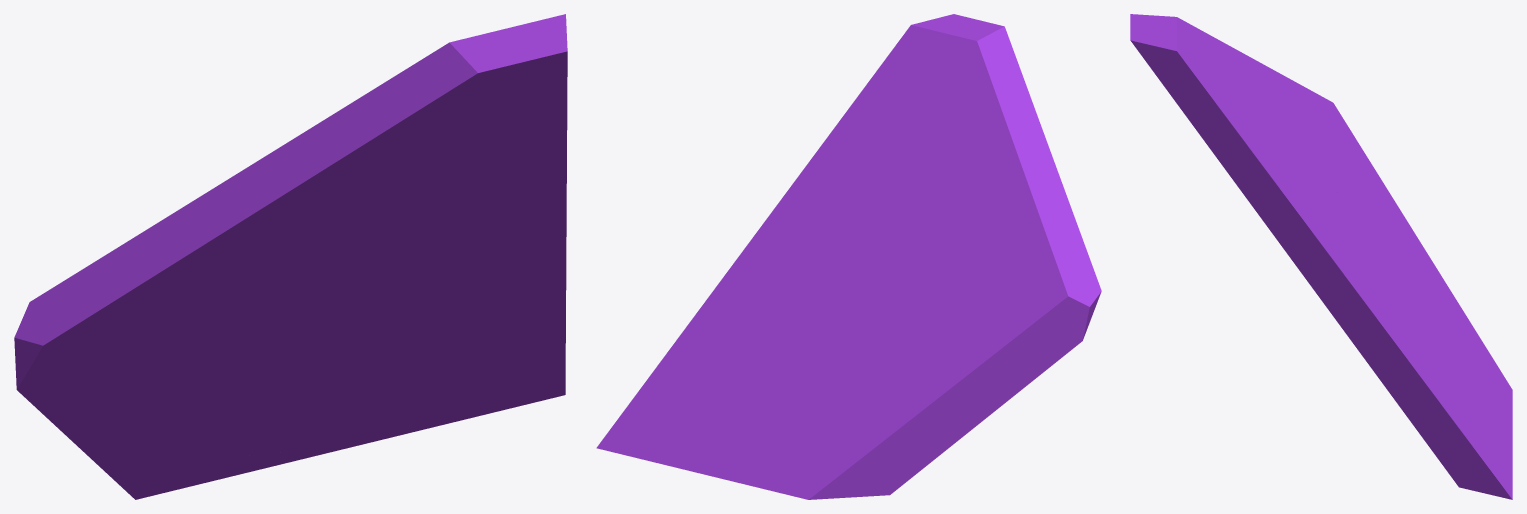
File: Window_126_2_chunks.fbx
3 renders of one model, left to right at view 1: azimuth 30°, elevation 25°; view 2: azimuth 150°, elevation 25°; view 3: azimuth 270°, elevation 25°, orthographic. The views are drawn at different scales.
Visible parts, largest first — view 1: Window_126_2_0, Window_126_2_4, Window_126_2_5, Window_126_2_6, Window_126_2_8, Window_126_2_2, Window_126_2_11, Window_126_2_7, Window_126_2_12, Window_126_2_10, Window_126_2_9; view 2: Window_126_2_4, Window_126_2_0, Window_126_2_1, Window_126_2_5, Window_126_2_6, Window_126_2_12, Window_126_2_8, Window_126_2_3, Window_126_2_2, Window_126_2_9, Window_126_2_10; view 3: Window_126_2_4, Window_126_2_8, Window_126_2_12, Window_126_2_5, Window_126_2_1, Window_126_2_6, Window_126_2_3, Window_126_2_0, Window_126_2_2, Window_126_2_9.
Part boxes in pixels (x1,y1,x2,y2): Window_126_2_0: (14,243,322,499); Window_126_2_4: (356,172,566,365); Window_126_2_5: (256,14,567,205); Window_126_2_6: (126,159,389,289); Window_126_2_8: (387,91,567,258); Window_126_2_2: (211,270,364,456); Window_126_2_11: (208,353,458,460); Window_126_2_7: (246,149,469,220); Window_126_2_12: (398,341,565,400); Window_126_2_10: (279,389,565,464); Window_126_2_9: (191,451,288,486); Window_126_2_4: (653,144,900,372); Window_126_2_0: (851,230,1101,497); Window_126_2_1: (843,249,1003,478); Window_126_2_5: (895,14,1050,160); Window_126_2_6: (890,155,1079,248); Window_126_2_12: (596,371,780,469); Window_126_2_8: (822,47,941,228); Window_126_2_3: (706,348,850,481); Window_126_2_2: (828,243,905,445); Window_126_2_9: (750,437,855,499); Window_126_2_10: (686,462,756,485); Window_126_2_4: (1245,178,1452,419); Window_126_2_8: (1168,74,1316,196); Window_126_2_12: (1407,372,1512,499); Window_126_2_5: (1130,14,1259,105); Window_126_2_1: (1312,118,1487,350); Window_126_2_6: (1247,55,1327,182); Window_126_2_3: (1407,290,1496,383); Window_126_2_0: (1298,83,1430,258); Window_126_2_2: (1325,182,1468,330); Window_126_2_9: (1475,364,1512,419).
Bounding box in the file's own units: 930 × 763 × 720.
